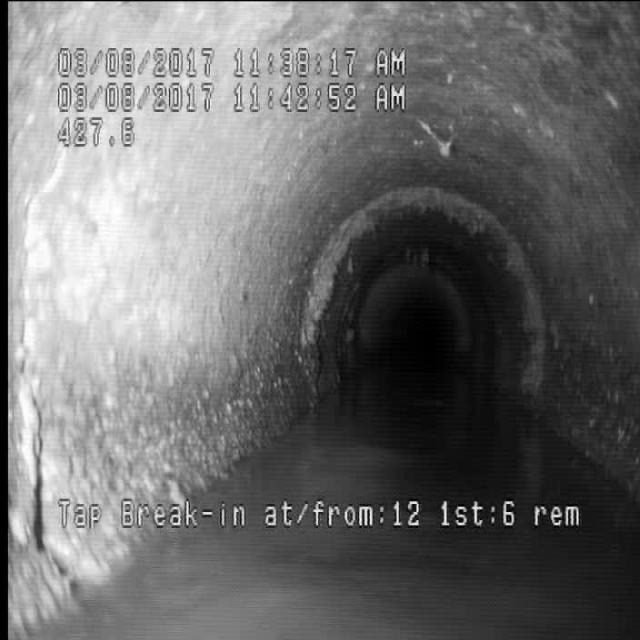Fracture: (9, 190, 101, 580)
